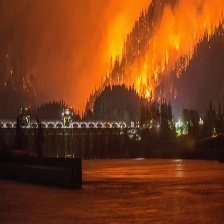fire: (134, 40, 177, 96)
smoke: (3, 2, 128, 77), (156, 8, 224, 40)
